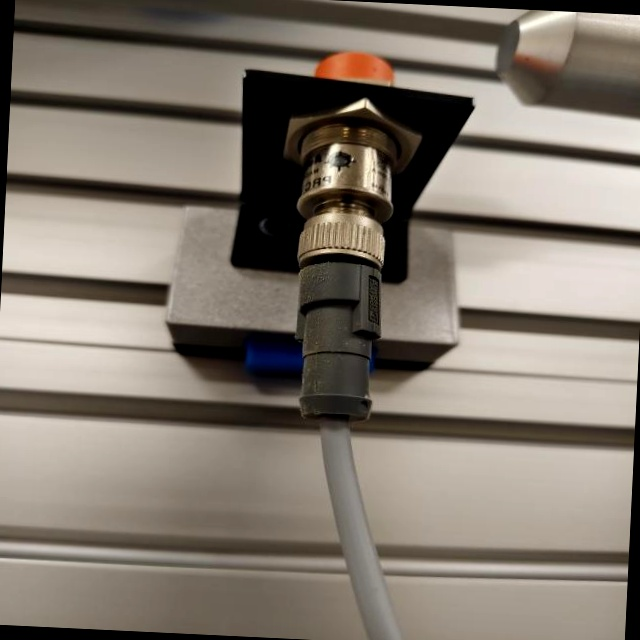inductive sensor: (146, 30, 495, 431)
